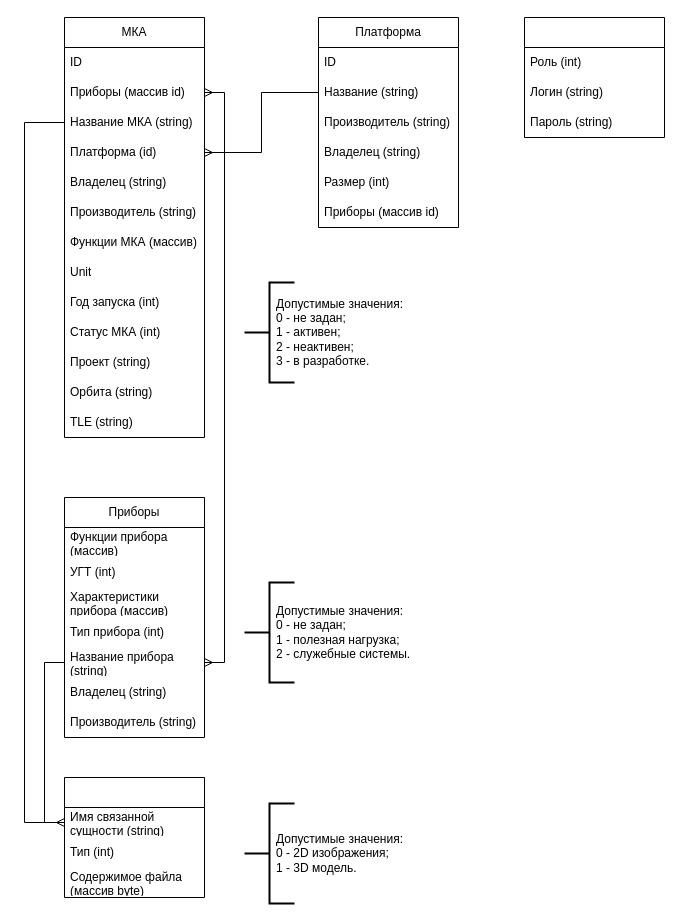
Some shapes in this 682 by 922 pixel diagram are drawn without their labels. The shapes that lost their labels are listed below. From the top down, each one's box as (x1, y1, x2, y2) in pixels, then its label:
(524, 16, 664, 138): Пользователи
(64, 776, 204, 898): Файлы
